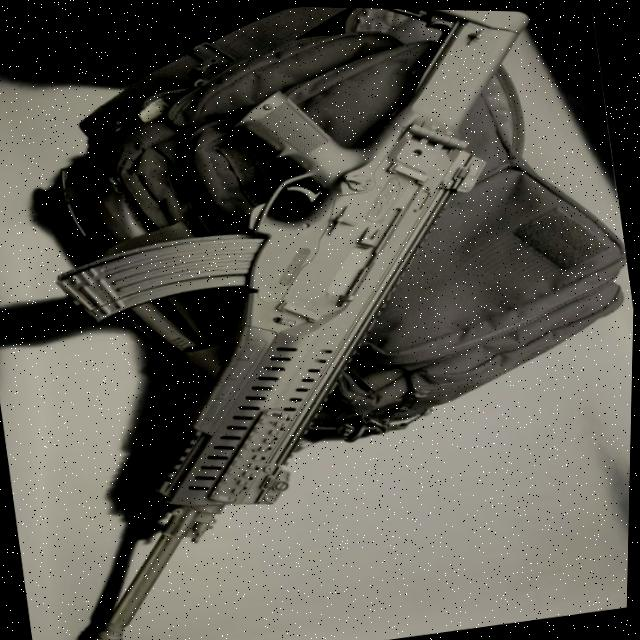firearm: (0, 0, 624, 640)
